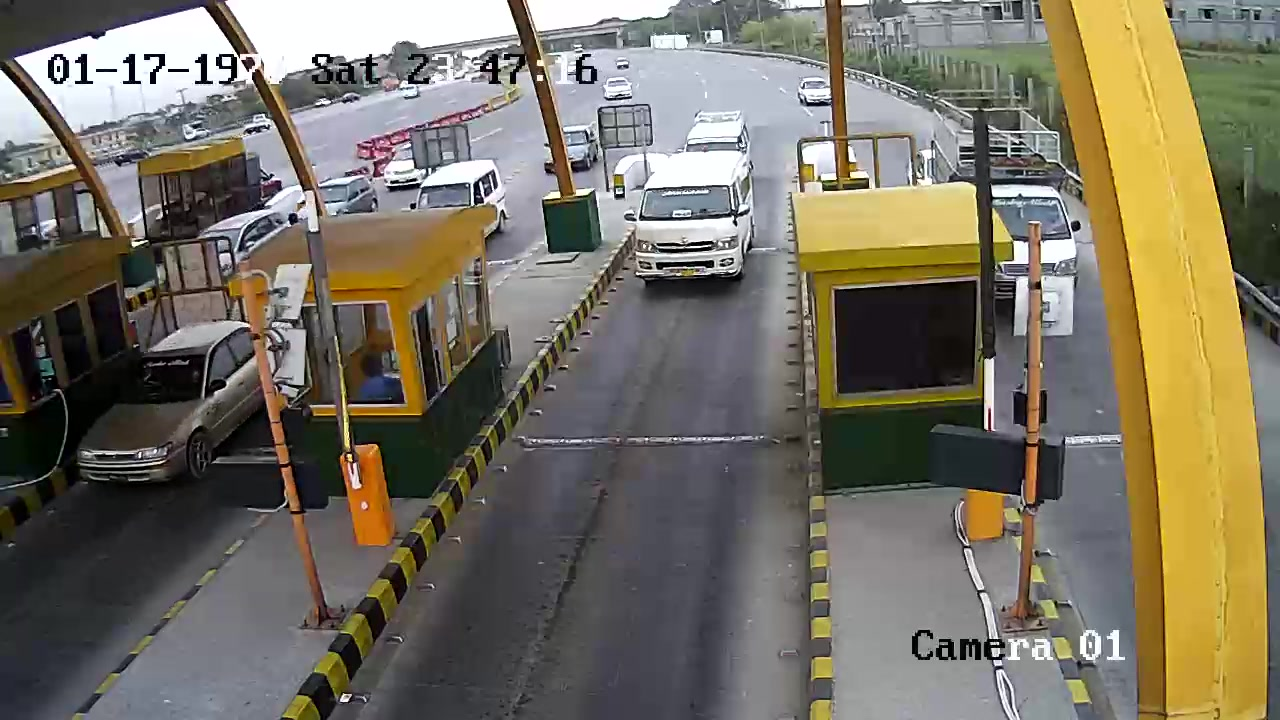F2: (629, 147, 759, 296)
